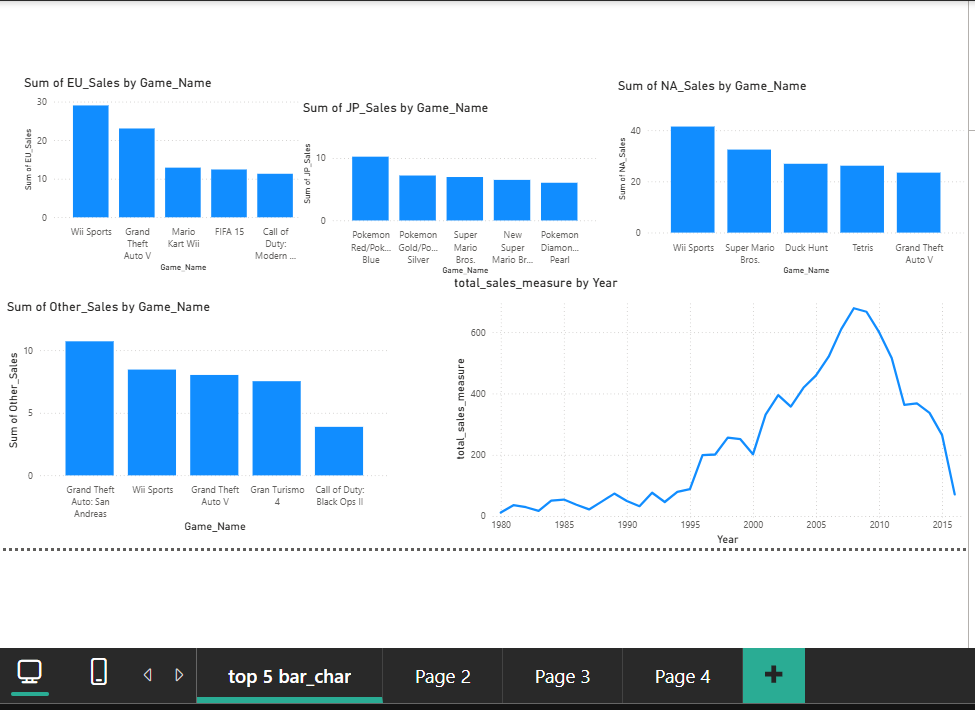

This screenshot's page, from the dashboard's own definition file:
{"tool":"powerbi","page":{"name":"top 5 bar_char","canvas":[1280,720],"ordinal":0},"visuals":[{"type":"columnChart","fields":{"Category":["sales.Game_Name"],"Y":["Sum(sales.EU_Sales)"]},"box":[33.2,97.4,389.5,263.1],"z":0},{"type":"columnChart","fields":{"Category":["sales.Game_Name"],"Y":["Sum(sales.NA_Sales)"]},"box":[814.3,101.5,466.2,263.1],"z":1000},{"type":"columnChart","fields":{"Category":["sales.Game_Name"],"Y":["Sum(sales.JP_Sales)"]},"box":[399.9,130.5,397.8,234.1],"z":2000},{"type":"columnChart","fields":{"Y":["Sum(sales.Other_Sales)"],"Category":["sales.Game_Name"]},"box":[10.4,391.6,513.8,312.9],"z":3000},{"type":"lineChart","fields":{"Category":["sales.Publish_Year.Variation.Date Hierarchy.Year"],"Y":["sales.total_sales_measure"]},"box":[598.8,360.5,681.7,360.5],"z":4000}]}

Visuals, with their boxes on the page's 1280x720 design canvas (x1, y1, x2, y2). These are canvas units, not pixel positions in the 975x710 screenshot, which may show the page scaled, cropped or inside an application window:
columnChart - sales.Game_Name x Sum(sales.EU_Sales): <box>33,97,423,360</box>
columnChart - sales.Game_Name x Sum(sales.NA_Sales): <box>814,102,1280,365</box>
columnChart - sales.Game_Name x Sum(sales.JP_Sales): <box>400,130,798,365</box>
columnChart - Sum(sales.Other_Sales) x sales.Game_Name: <box>10,392,524,704</box>
lineChart - sales.Publish_Year.Variation.Date Hierarchy.Year x sales.total_sales_measure: <box>599,360,1280,721</box>
